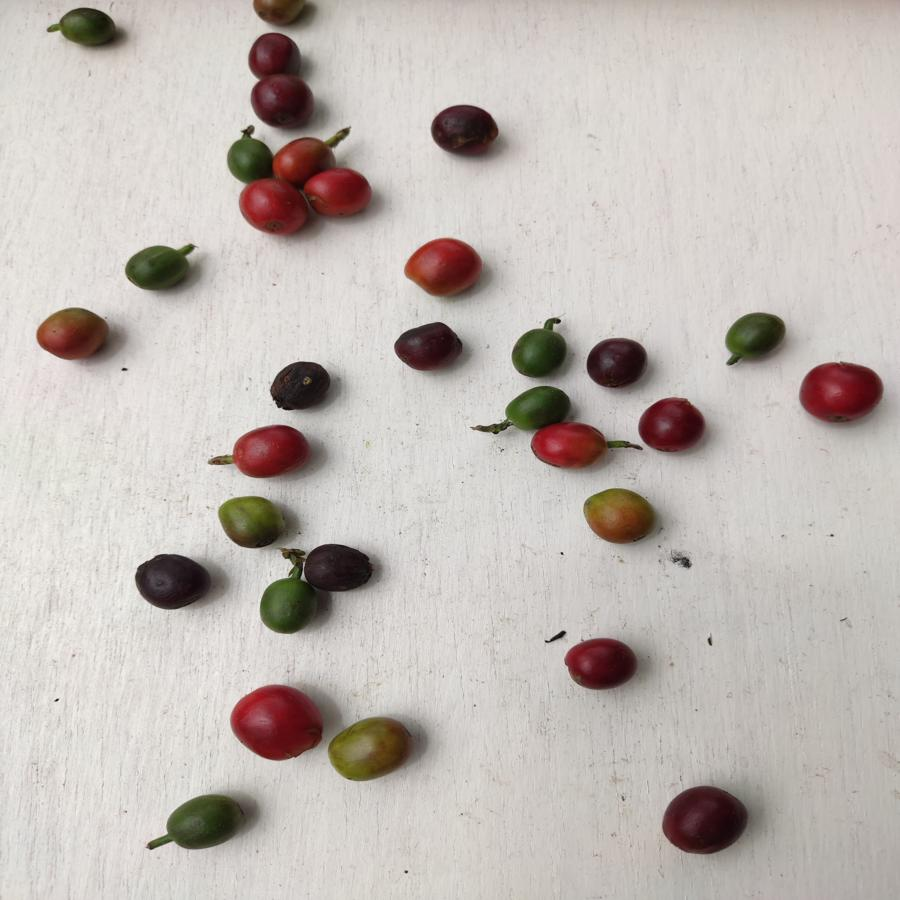Inmaduro: (161, 791, 244, 848), (720, 308, 785, 364), (121, 244, 194, 293), (257, 578, 320, 634), (506, 328, 572, 381), (54, 4, 121, 49), (503, 384, 574, 422), (224, 132, 272, 181)
Maduro: (227, 686, 322, 759), (795, 360, 884, 425), (399, 234, 485, 296), (235, 423, 310, 482), (237, 182, 309, 240), (525, 423, 610, 469), (305, 169, 373, 217), (276, 137, 335, 180)
Pinton: (328, 718, 416, 780), (32, 307, 113, 366), (580, 488, 658, 544), (220, 495, 283, 552)
Sobremaduro: (659, 783, 748, 855), (135, 553, 211, 615), (558, 634, 638, 690), (638, 395, 710, 455), (250, 73, 318, 129), (302, 541, 374, 592), (390, 321, 465, 368), (432, 104, 500, 154), (270, 358, 330, 413), (588, 335, 648, 389), (247, 32, 303, 79)
